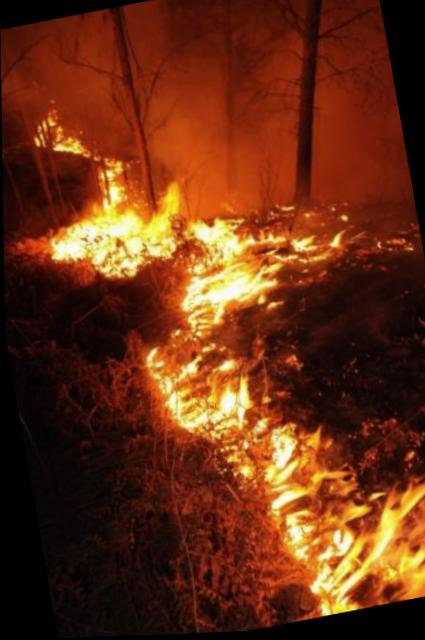fire: (29, 46, 423, 639)
